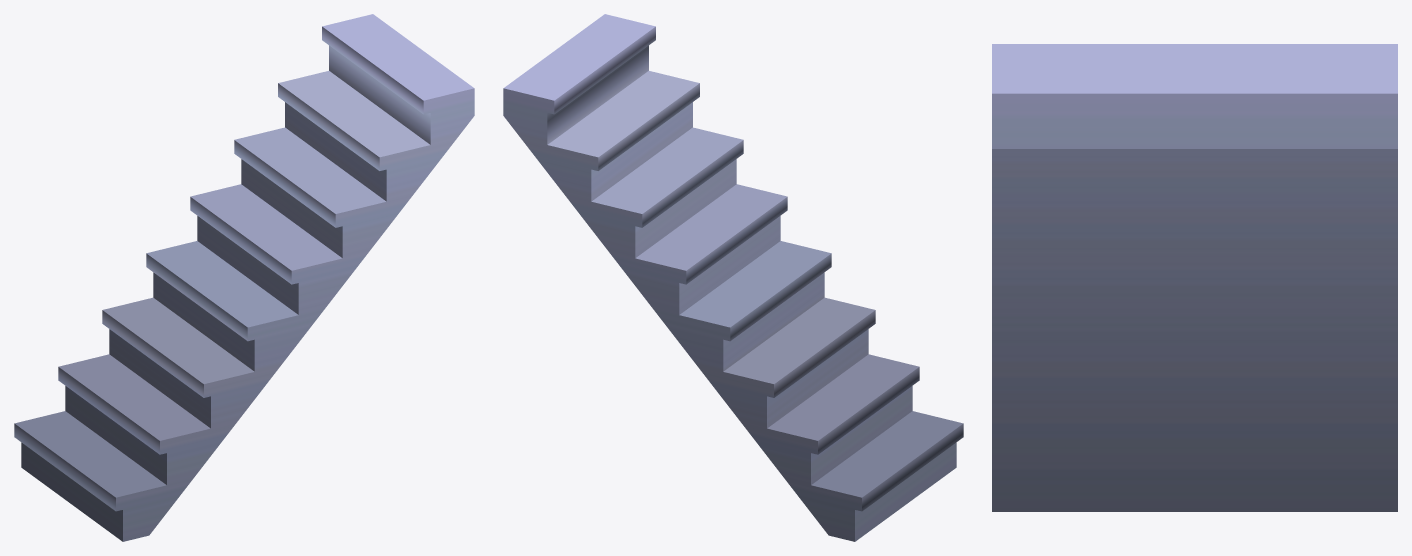
The model's file is stairs-stone.glb.
3 views of the same model, side by side, from view 1: azimuth 30°, elevation 25°; view 2: azimuth 150°, elevation 25°; view 3: azimuth 270°, elevation 25° (orthographic). The views are drawn at different scales.
Parts seen in each view (by area): view 1: stairs-stone; view 2: stairs-stone; view 3: stairs-stone.
Boxes of the visible parts, x1=… form: stairs-stone: x1=14, y1=14, x2=474, y2=541; stairs-stone: x1=503, y1=14, x2=963, y2=541; stairs-stone: x1=992, y1=44, x2=1397, y2=511.
Bounding box in the file's own units: 1.02 × 1 × 0.5.
Materials: 1 (1 with a texture image).
